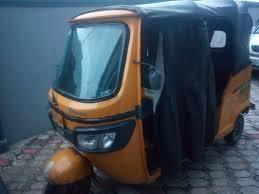keke: (42, 2, 258, 193)
